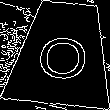O_N: (34, 26, 91, 81)
